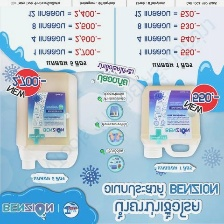cleaning_solution: (10, 67, 78, 172), (136, 81, 203, 160)
